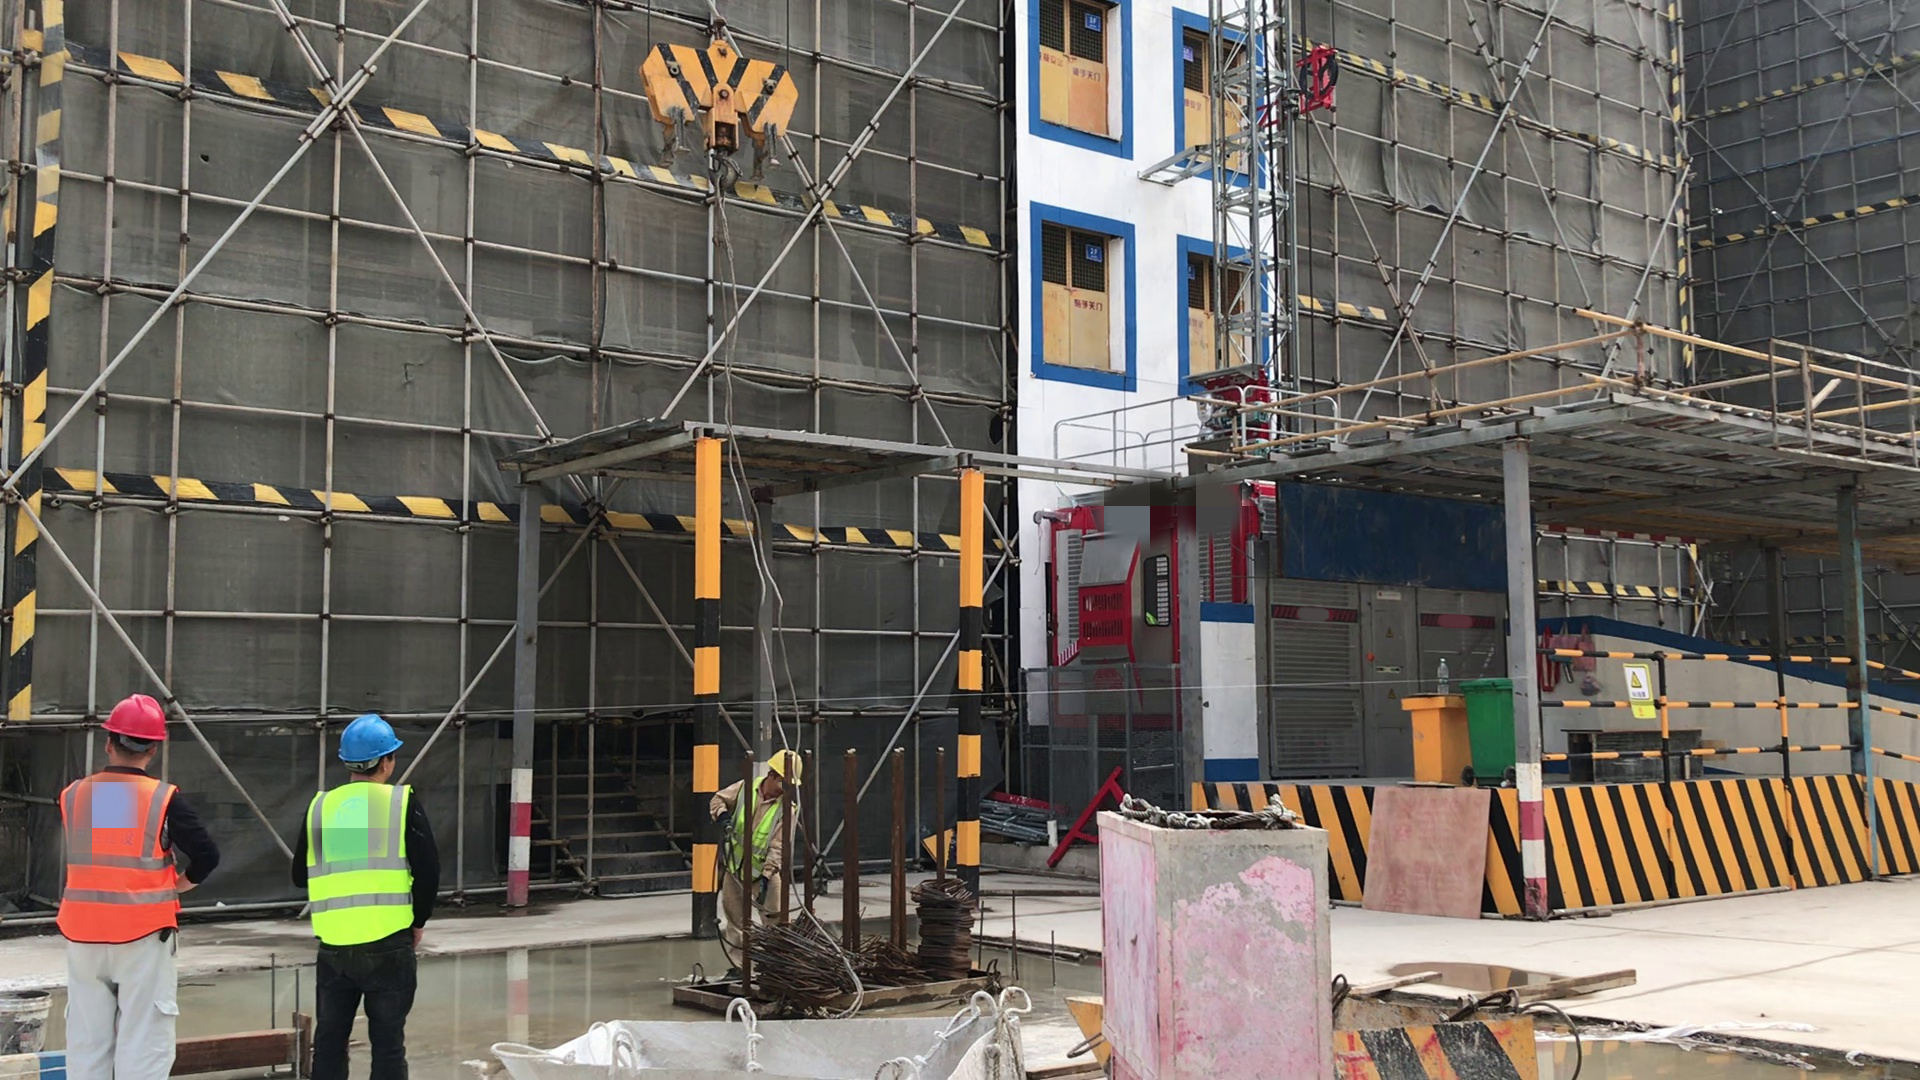helmet: (333, 713, 403, 764), (103, 694, 170, 742), (769, 749, 801, 785)
hook: (640, 36, 798, 187)
hopper: (495, 1009, 1022, 1080)
person: (52, 695, 222, 1080), (285, 711, 438, 1080), (704, 750, 815, 972)
slogan: (1620, 662, 1661, 728)
vest: (60, 771, 185, 943), (308, 784, 418, 945), (721, 778, 779, 877)
